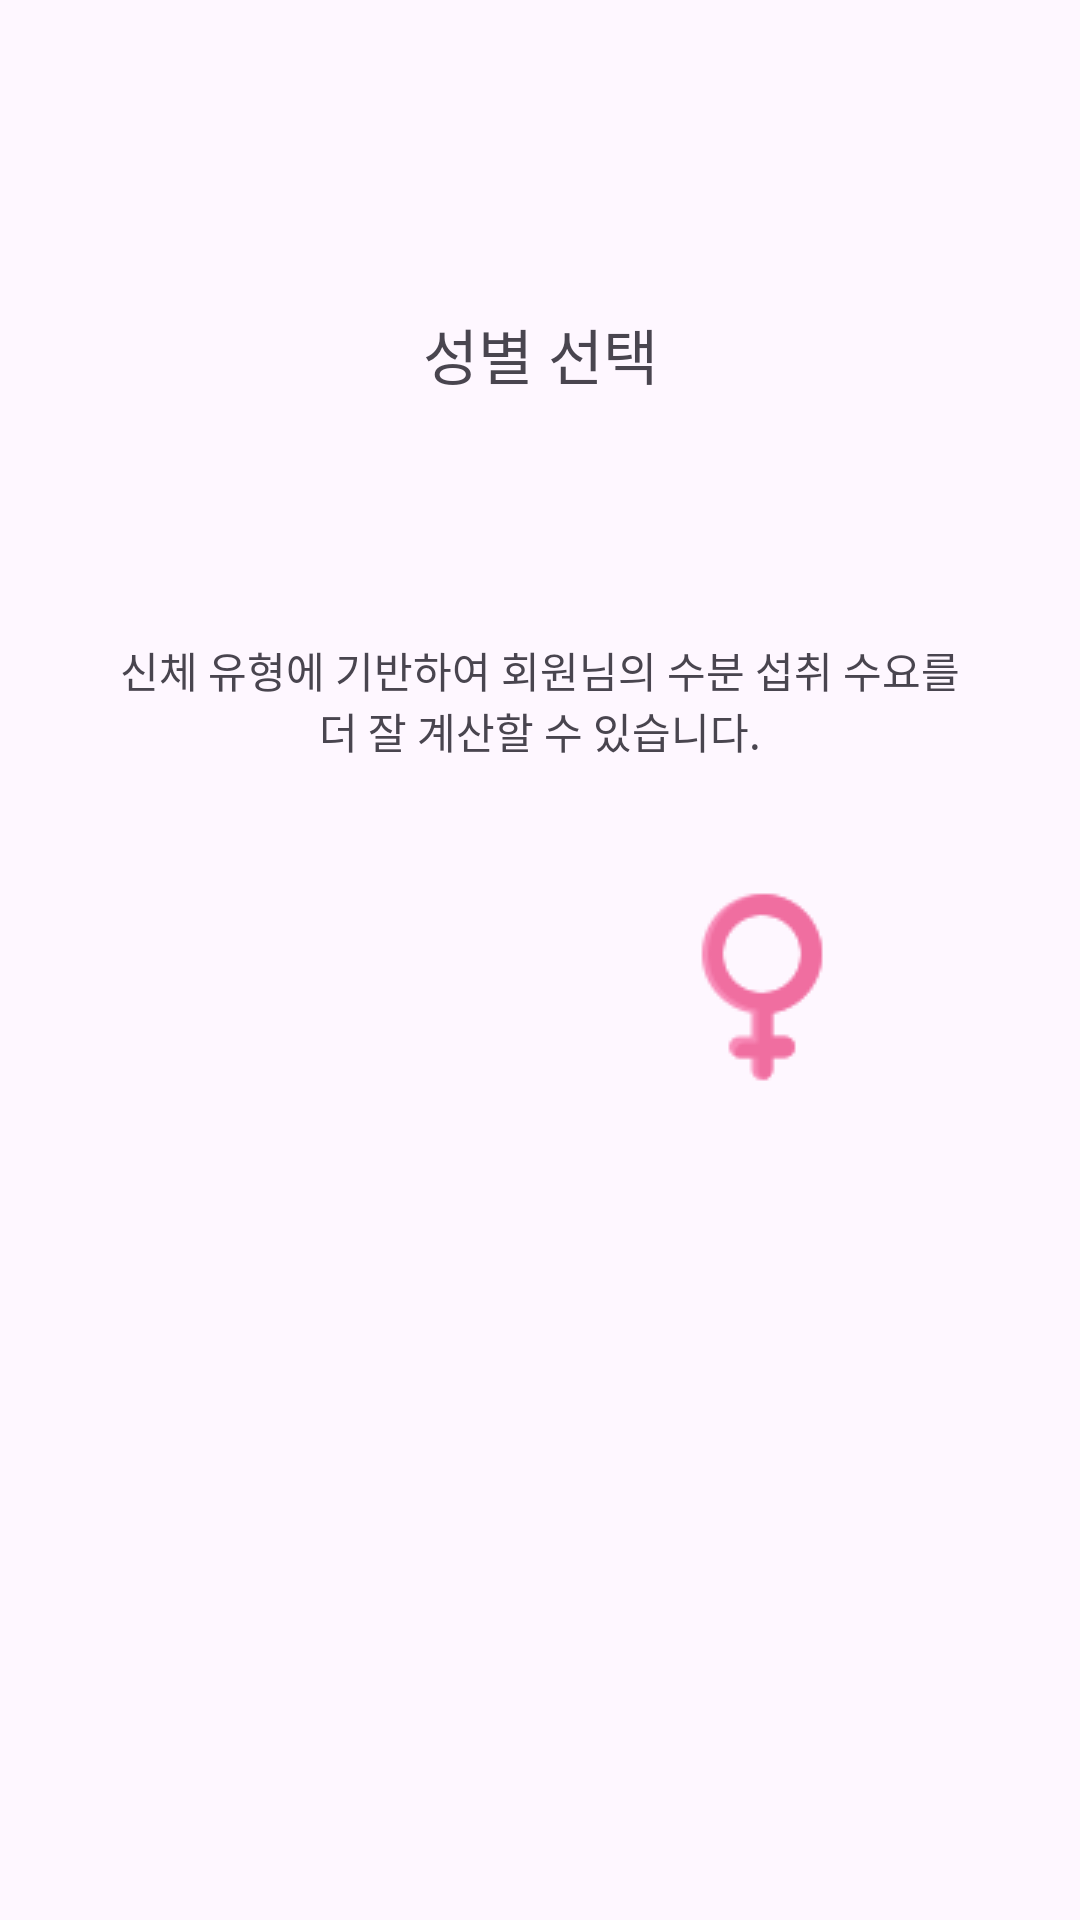

Named icons in this screenshot (1080px×1920px) and their centers, (x=x, y=y):
female: (x=762, y=987)
